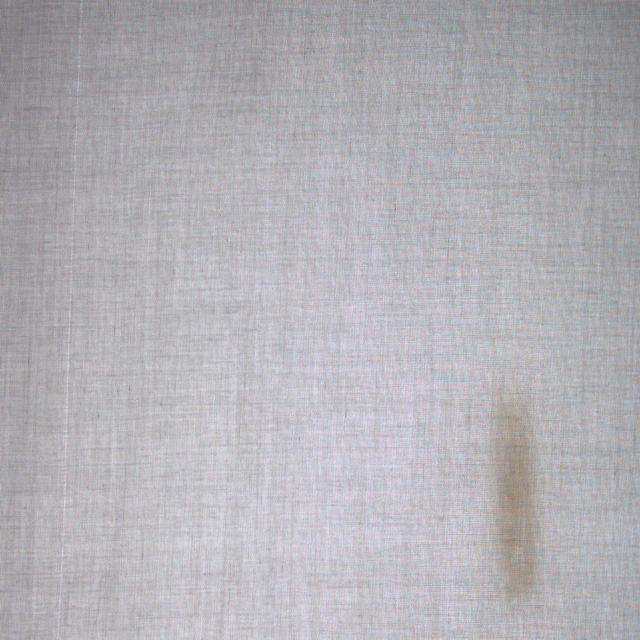dirty: (490, 380, 540, 602)
